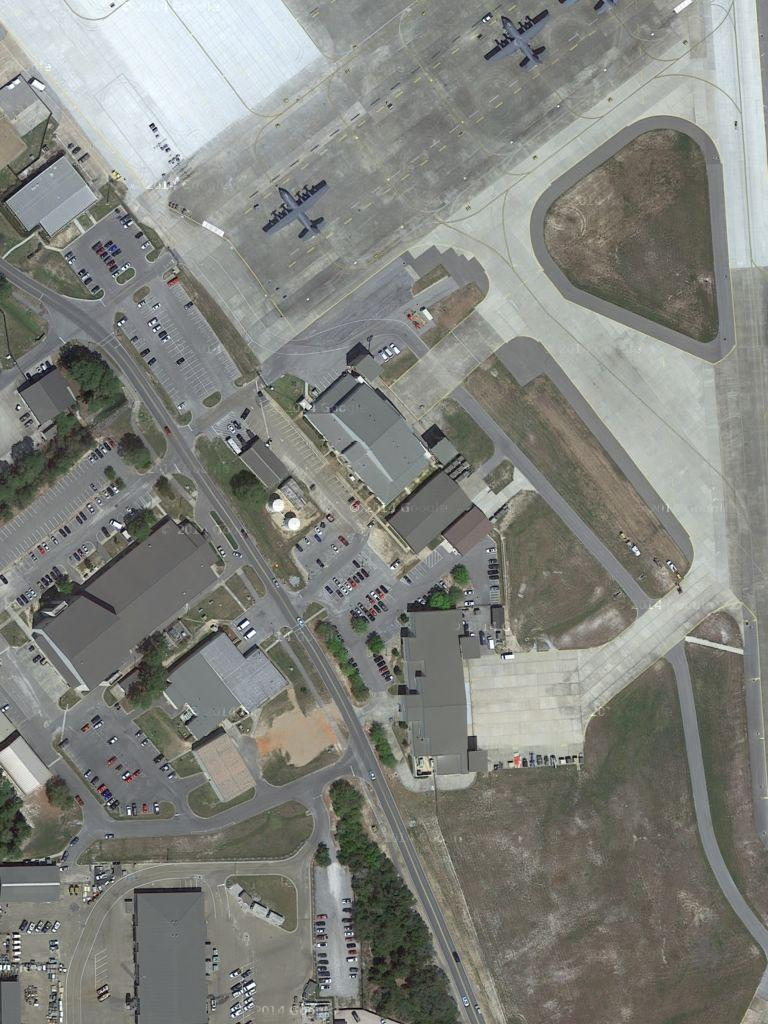C-130: (482, 8, 559, 75), (262, 178, 333, 244)
